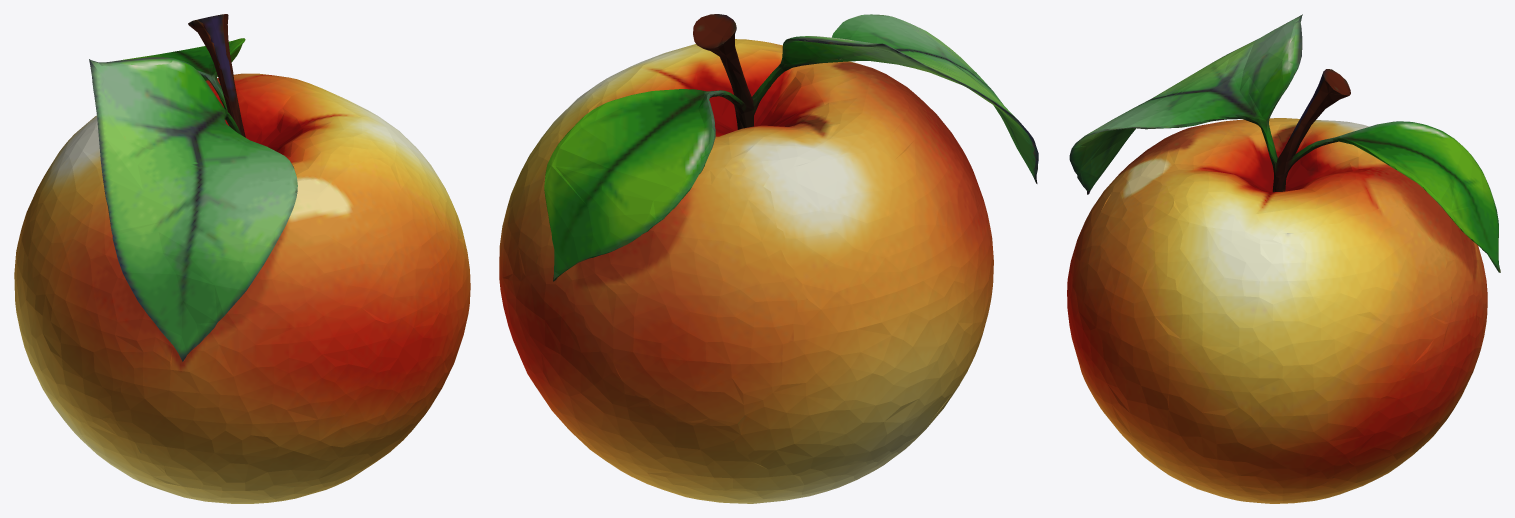
The model's file is peach.glb.
The picture shows the model from 3 angles, left to right: view 1: azimuth 30°, elevation 25°; view 2: azimuth 150°, elevation 25°; view 3: azimuth 270°, elevation 25°; orthographic projection. The views are drawn at different scales.
Visible parts, largest first — view 1: world; view 2: world; view 3: world.
Boxes of the visible parts, x1=… form: world: x1=14, y1=14, x2=470, y2=503; world: x1=499, y1=14, x2=1038, y2=503; world: x1=1067, y1=14, x2=1500, y2=503.
Bounding box in the file's own units: 0.9152 × 0.996 × 0.9554.
1 material, 1 textured.
